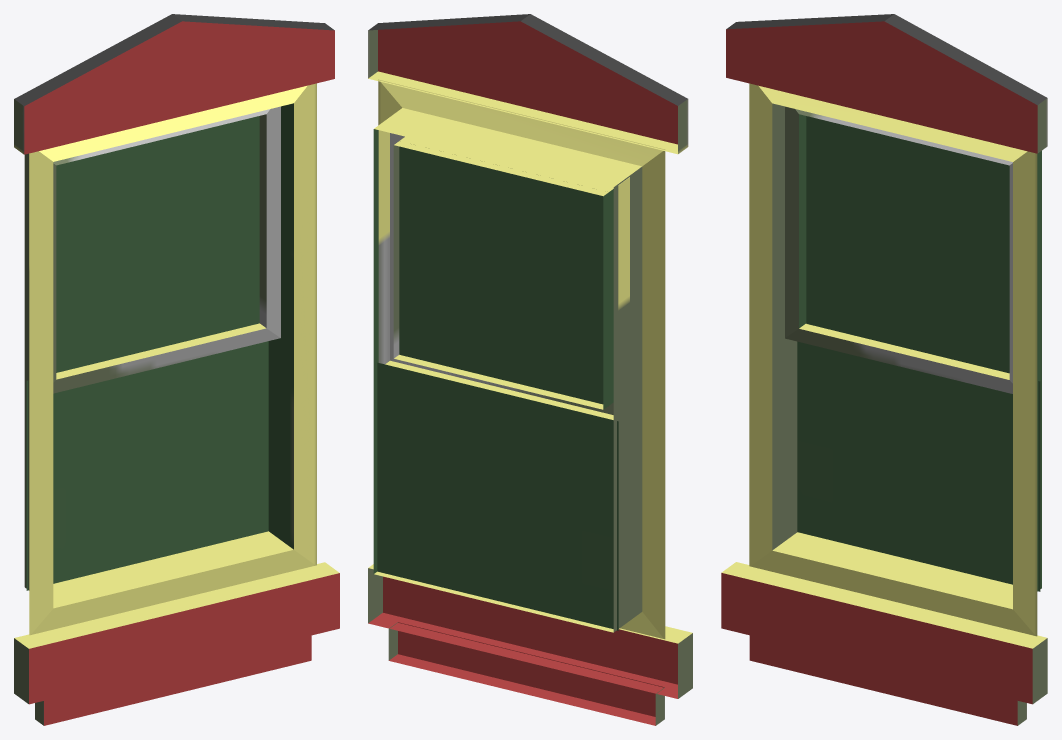
The model's file is 2W_3F_building_window.fbx.
3 renders of one model, left to right at view 1: azimuth 30°, elevation 25°; view 2: azimuth 150°, elevation 25°; view 3: azimuth 330°, elevation 25°, orthographic.
Parts seen in each view (by area): view 1: Object146; view 2: Object146; view 3: Object146.
Part boxes in pixels (bbox=[...]): Object146: bbox=[14, 14, 339, 725]; Object146: bbox=[368, 14, 692, 725]; Object146: bbox=[721, 14, 1047, 725].
Size of the model in its own units: 308 by 636 by 71.84.
